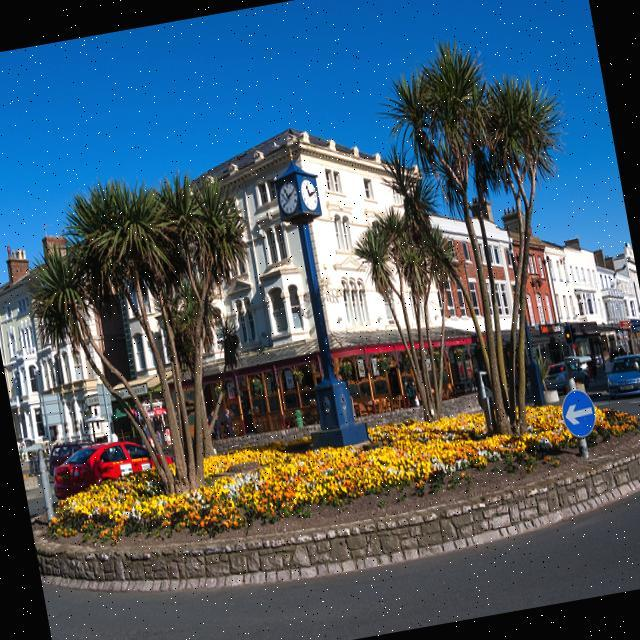fire_hydrant: (291, 408, 304, 428)
